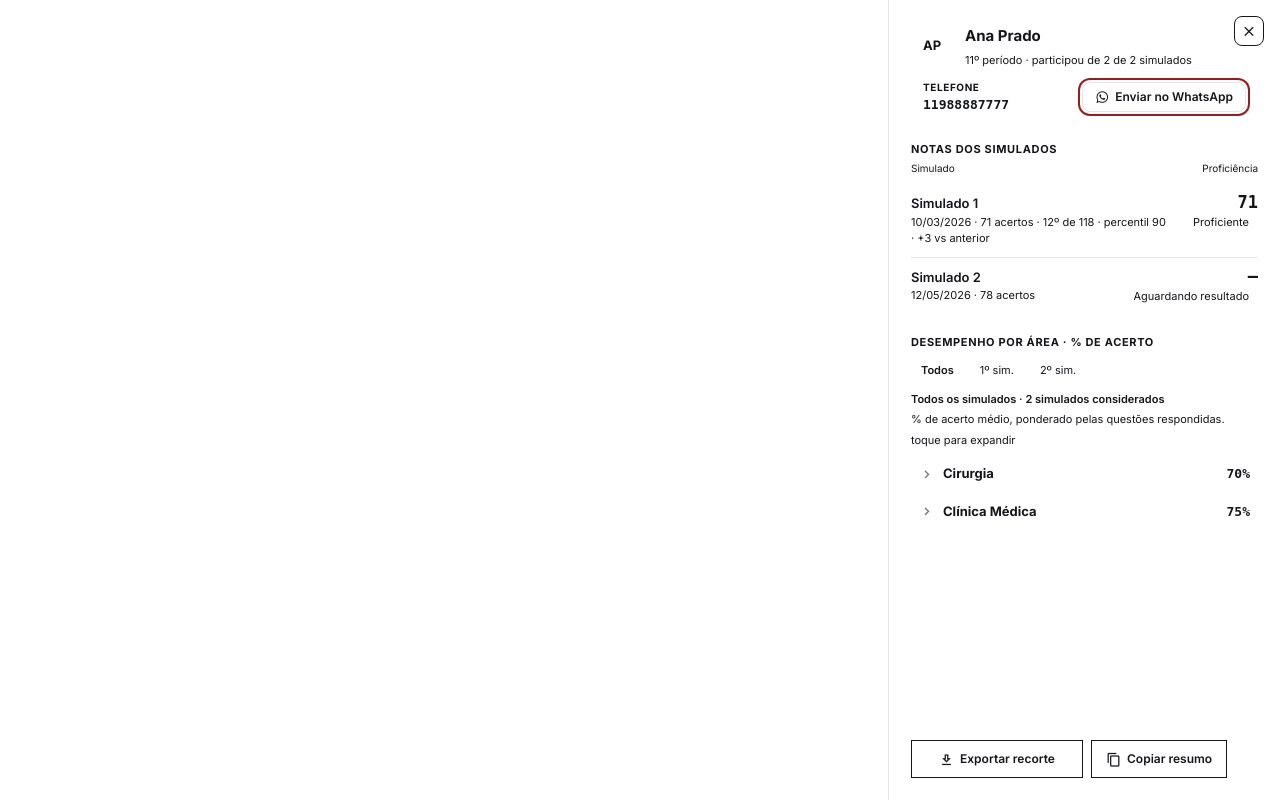
Test: DrawerAluno — procedência do bloco de área (achado 11/08) › no individual, o padrão é o simulado mais recente COM nota liberada
The width and height of the screenshot is (1280, 800).
Click the button "1º sim.": (997,370) [970,358,1024,382]
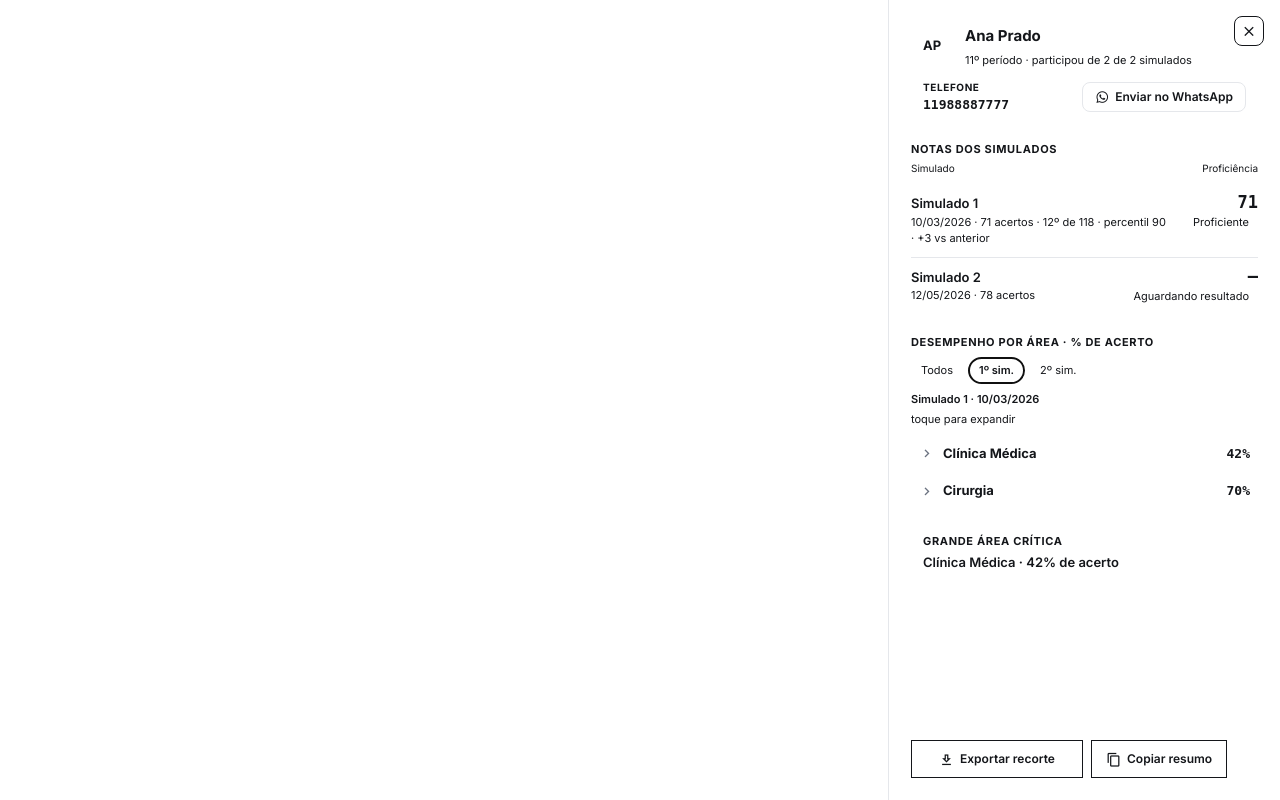
Expected: the element with test id "drawer-areas" shows "Simulado 1", [911,392,1039,406]
Expected: the text with test id "rotulo-areas-consolidado" is gone
